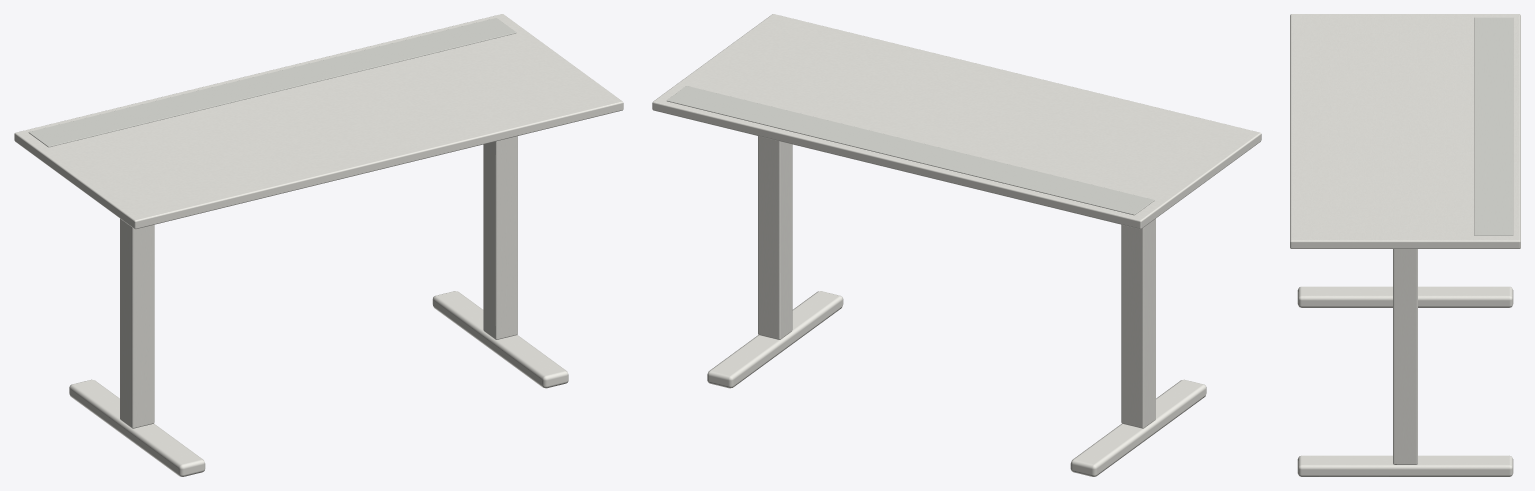
The model's file is mittzon-mobile.glb.
The picture shows the model from 3 angles, left to right: view 1: azimuth 30°, elevation 25°; view 2: azimuth 150°, elevation 25°; view 3: azimuth 270°, elevation 25°; orthographic projection. The views are drawn at different scales.
Parts seen in each view (by area): view 1: MITTZON Desk 140 × 60; view 2: MITTZON Desk 140 × 60; view 3: MITTZON Desk 140 × 60.
Boxes of the visible parts, box(x1,y1,x2,y2) form: MITTZON Desk 140 × 60: box(14, 14, 623, 476); MITTZON Desk 140 × 60: box(652, 14, 1261, 476); MITTZON Desk 140 × 60: box(1290, 14, 1520, 476).
Bounding box in the file's own units: 1.4 × 0.75 × 0.6.
2 materials, 2 textured.
